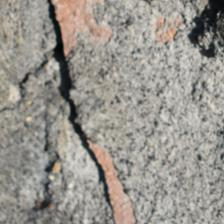Crack: (0, 22, 173, 87), (5, 1, 110, 57)
